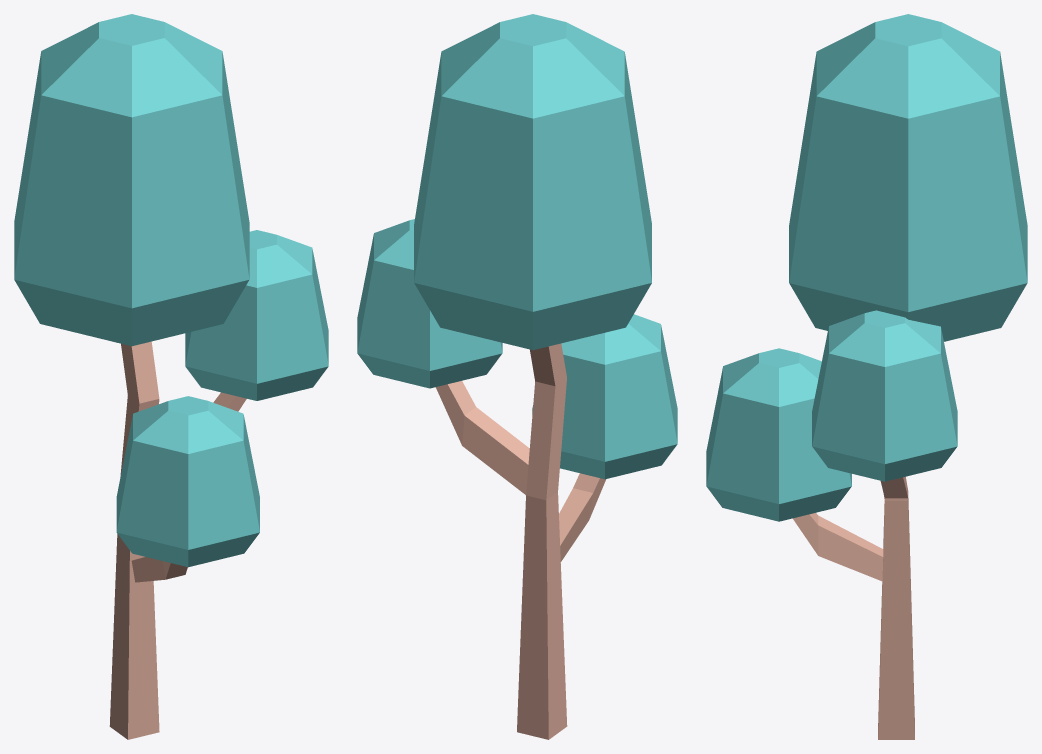
Rendered from tree_thin_dark.glb.
The picture shows the model from 3 angles, left to right: view 1: azimuth 30°, elevation 25°; view 2: azimuth 150°, elevation 25°; view 3: azimuth 270°, elevation 25°; orthographic projection.
Parts seen in each view (by area): view 1: tree_thin_dark; view 2: tree_thin_dark; view 3: tree_thin_dark.
Boxes of the visible parts, box(x1,y1,x2,y2) form: tree_thin_dark: box(14, 14, 328, 739); tree_thin_dark: box(357, 14, 677, 739); tree_thin_dark: box(706, 14, 1027, 739).
Bounding box in the file's own units: 0.6804 × 1.49 × 0.6165.
